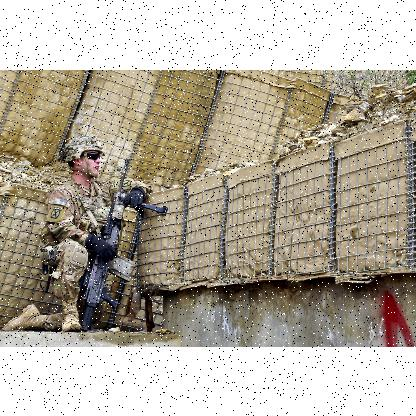gun: (81, 157, 167, 326)
